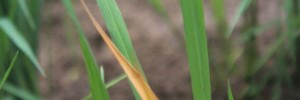RiceTungro: (79, 4, 154, 100)
